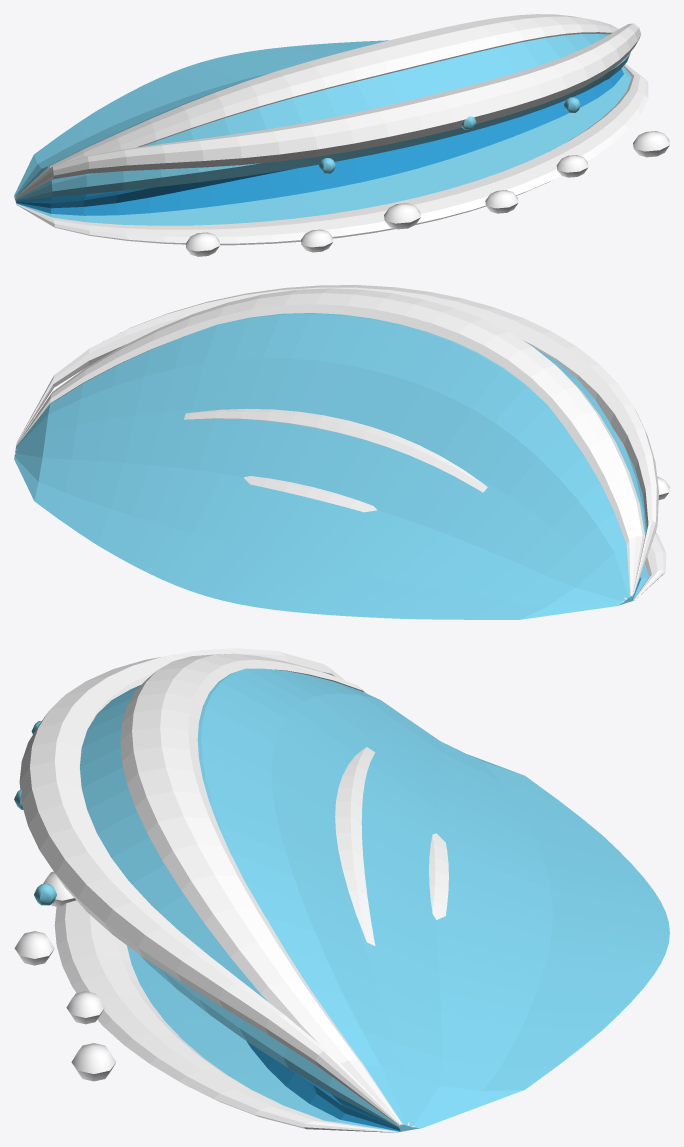
The model's file is H04_WaveCrest.fbx.
3 views of the same model, one above another, from view 1: azimuth 30°, elevation 25°; view 2: azimuth 150°, elevation 25°; view 3: azimuth 270°, elevation 25° (orthographic). The views are drawn at different scales.
Parts seen in each view (by area): view 1: H04_WaveCrest; view 2: H04_WaveCrest; view 3: H04_WaveCrest.
Part boxes in pixels (x1,y1,x2,y2): H04_WaveCrest: (14, 14, 669, 256); H04_WaveCrest: (14, 285, 669, 619); H04_WaveCrest: (14, 648, 669, 1132).
Bounding box in the file's own units: 8.08 × 1.96 × 5.6.
